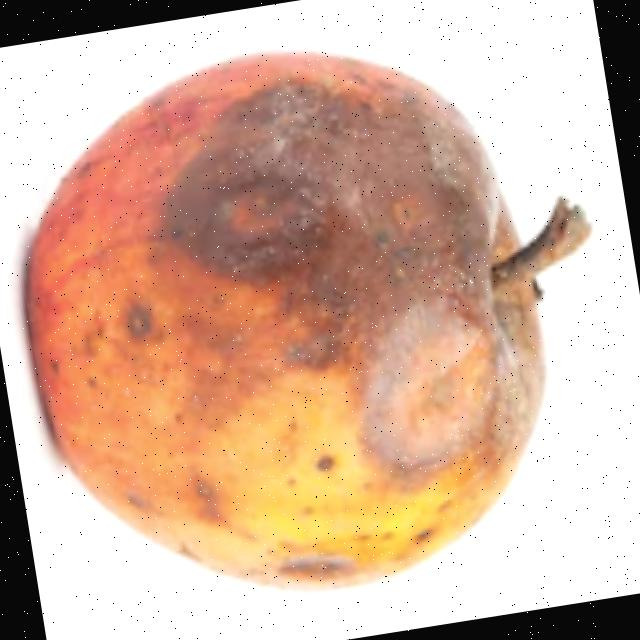Rotten: (0, 5, 594, 632)
